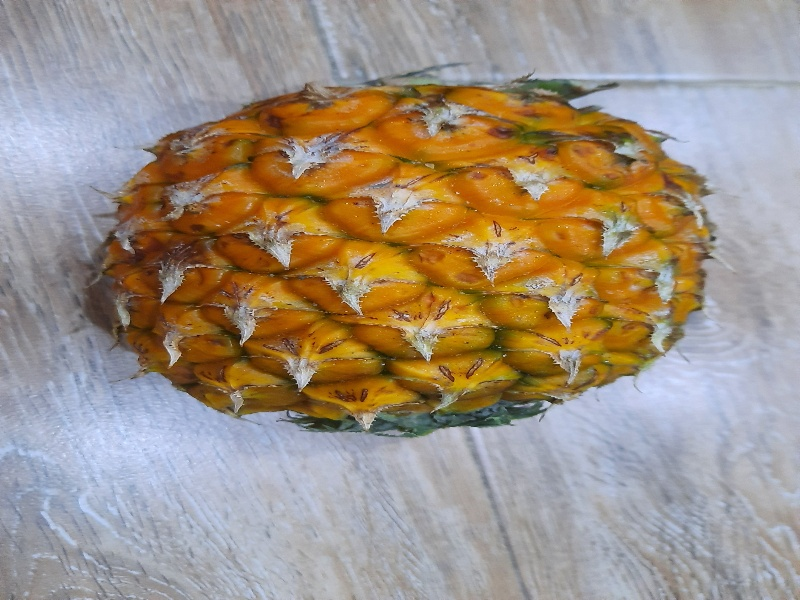fruit: (90, 74, 719, 441)
